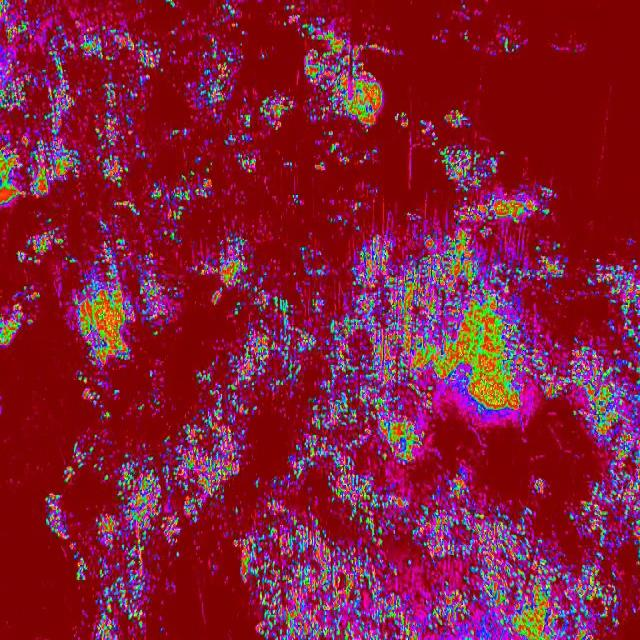fire: (0, 0, 407, 378), (44, 376, 407, 640), (408, 112, 640, 414), (408, 467, 640, 640), (576, 413, 640, 468)
